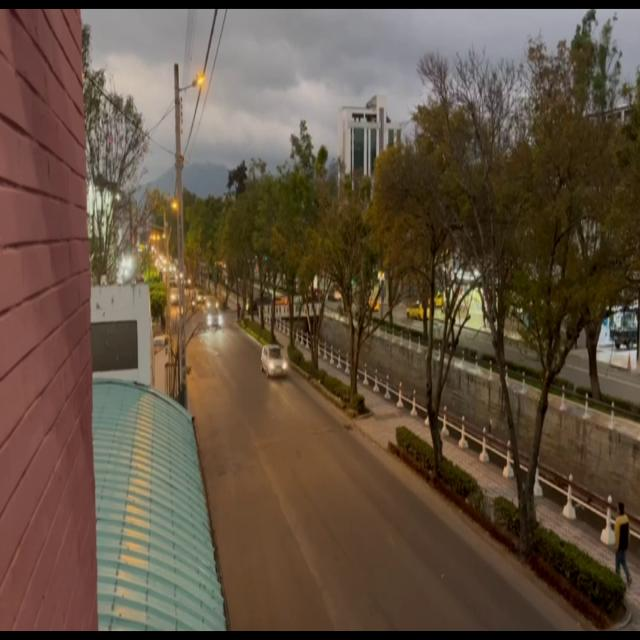SUV: (264, 345, 288, 377)
